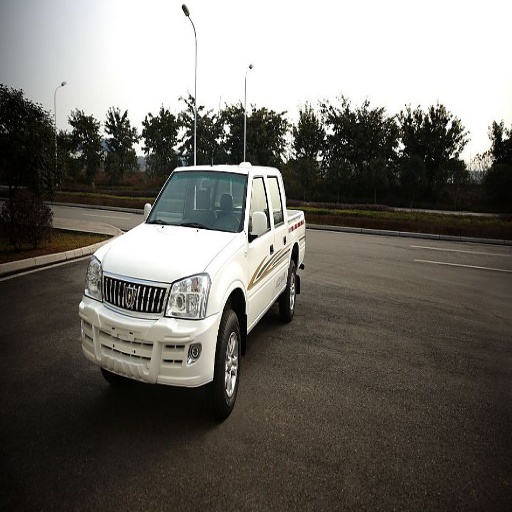front_bumper: (83, 271, 221, 387)
front_glass: (146, 172, 250, 232)
front_left_door: (250, 176, 278, 317)
